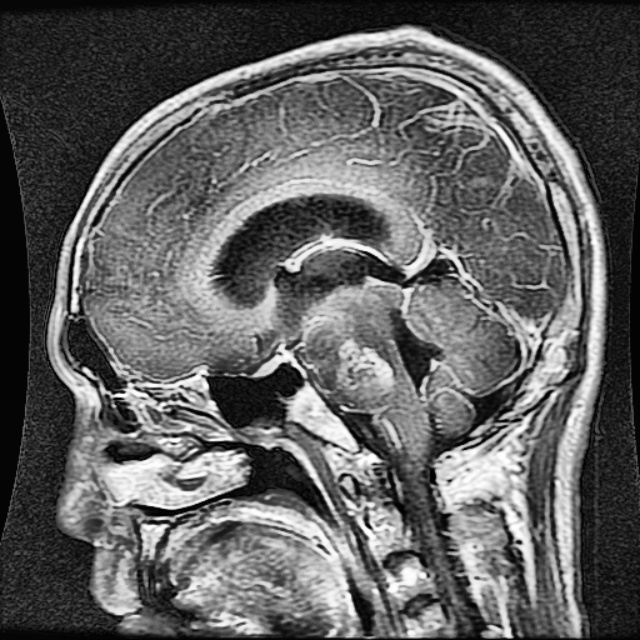Meningioma: (338, 340, 393, 414)
